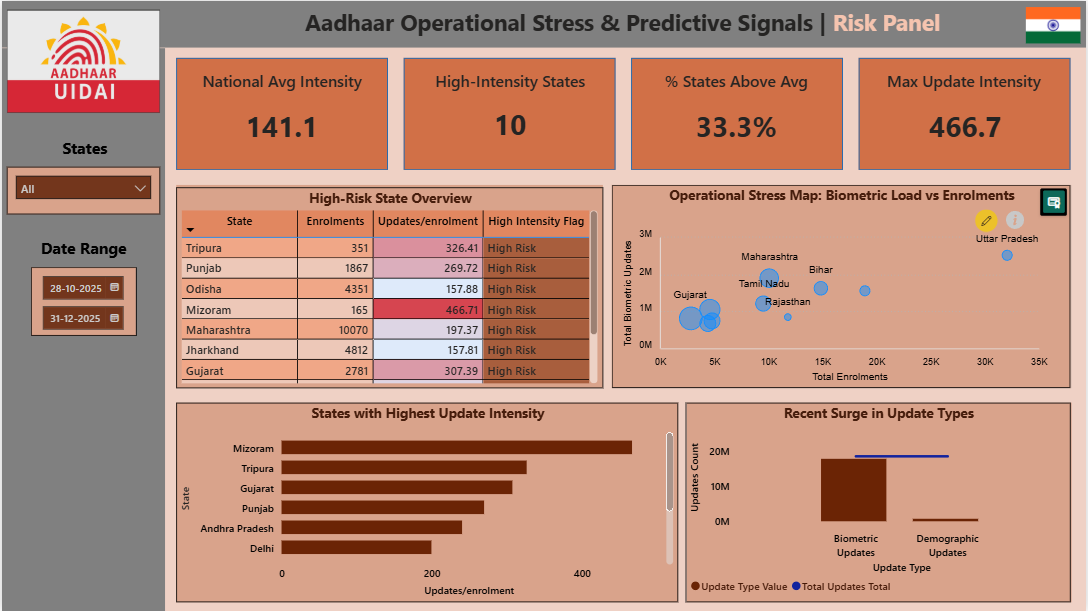

The page's visual inventory and layout, read from the dashboard file:
{"tool":"powerbi","page":{"name":"Risk Panel","canvas":[1280,720],"ordinal":2},"visuals":[{"type":"shape","box":[206.2,217.5,503.8,240],"z":0},{"type":"shape","box":[206.2,67.5,250,132.5],"z":1000},{"type":"shape","box":[0,0,1280,55],"z":2000},{"type":"shape","box":[0,55,192.5,665],"z":3000},{"type":"image","box":[6.2,10,181.2,122.5],"z":4000},{"type":"textbox","box":[352.5,1.2,760,51.2],"z":5000},{"type":"cardVisual","fields":{"Data":["final_state_summary.National Average Update Intensity"]},"box":[247.1,111.4,167.1,68.6],"z":6000},{"type":"shape","box":[474.6,67.5,250,132.5],"z":7000},{"type":"shape","box":[742.9,67.5,250,132.5],"z":8000},{"type":"shape","box":[1011.2,67.5,250,132.5],"z":9000},{"type":"textbox","box":[206.2,77.5,250,66.2],"z":10000},{"type":"textbox","box":[480,77.5,240,56.2],"z":11000},{"type":"cardVisual","fields":{"Data":["final_state_summary.High Intensity States Count"]},"box":[517.5,110,166.2,68.8],"z":12000},{"type":"cardVisual","fields":{"Data":["final_state_summary.Pct States Above Avg"]},"box":[747.1,111.4,240,68.6],"z":13000},{"type":"textbox","box":[747.5,77.5,240,56.2],"z":14000},{"type":"textbox","box":[1016.2,77.5,240,55],"z":15000},{"type":"cardVisual","fields":{"Data":["final_state_summary.Max Update Intensity"]},"box":[1053.8,111.2,166.2,68.8],"z":16000},{"type":"shape","box":[205.7,474.3,592.9,235.7],"z":17000},{"type":"shape","box":[808.6,474.3,454.3,235.7],"z":18000},{"type":"shape","box":[720,217.1,541.4,240],"z":19000},{"type":"shape","box":[6.2,195,181.2,56.2],"z":20000},{"type":"slicer","fields":{"Values":["final_state_summary.state"]},"box":[6.3,195.3,181.1,56.3],"z":21000},{"type":"shape","box":[33.8,313.8,123.8,81.2],"z":22000},{"type":"textbox","box":[7.5,155,181.2,40],"z":23000},{"type":"textbox","box":[6.2,273.8,181.2,40],"z":24000},{"type":"slicer","fields":{"Values":["enrolment_verified.date"]},"box":[33.8,313.8,125,81.2],"z":25000},{"type":"image","box":[1206.7,6.7,67.5,43.3],"z":26000},{"type":"tableEx","title":"High-Risk State Overview","fields":{"Values":["final_state_summary.state","Sum(final_state_summary.enrolments)","Sum(final_state_summary.updates_per_enrolment)","final_state_summary.High Intensity Flag"]},"box":[206.2,220,503.8,237.5],"z":27000},{"type":"lineClusteredColumnComboChart","title":"Recent Surge in Update Types","fields":{"Category":["UpdateType.Update Type"],"Y":["UpdateType.Update Type Value"],"Y2":["UpdateType.Total Updates Total"]},"box":[807.1,474.3,454.3,235.7],"z":28000},{"type":"clusteredBarChart","title":"States with Highest Update Intensity","fields":{"Category":["final_state_summary.state"],"Y":["Sum(final_state_summary.updates_per_enrolment)"]},"box":[205.7,474.3,592.9,235.7],"z":29000},{"type":"performanceBubbleChartFBAAA829CB604E5CAB4F21729F233294","title":"Operational Stress Map: Biometric Load vs Enrolments","fields":{"xmeasure":["enrolment_verified.Total Enrolments"],"ymeasure":["final_state_summary.Total Biometric Updates"],"zmeasure":["Sum(final_state_summary.updates_per_enrolment)"],"category":["final_state_summary.state"]},"box":[720,217.1,541.4,240],"z":30000}]}

Visuals, with their boxes in screenshot pixels (x1, y1, x2, y2), scaled from the page's 1280x720 canvas onto the 1088x611 screenshot:
shape: l=175, t=185, r=604, b=388
shape: l=175, t=57, r=388, b=170
shape: l=0, t=0, r=1087, b=47
shape: l=0, t=47, r=164, b=610
image: l=5, t=8, r=159, b=112
textbox: l=300, t=1, r=946, b=44
cardVisual - final_state_summary.National Average Update Intensity: l=210, t=95, r=352, b=153
shape: l=403, t=57, r=616, b=170
shape: l=631, t=57, r=844, b=170
shape: l=860, t=57, r=1072, b=170
textbox: l=175, t=66, r=388, b=122
textbox: l=408, t=66, r=612, b=113
cardVisual - final_state_summary.High Intensity States Count: l=440, t=93, r=581, b=152
cardVisual - final_state_summary.Pct States Above Avg: l=635, t=95, r=839, b=153
textbox: l=635, t=66, r=839, b=113
textbox: l=864, t=66, r=1068, b=112
cardVisual - final_state_summary.Max Update Intensity: l=896, t=94, r=1037, b=153
shape: l=175, t=402, r=679, b=603
shape: l=687, t=402, r=1073, b=603
shape: l=612, t=184, r=1072, b=388
shape: l=5, t=165, r=159, b=213
slicer - final_state_summary.state: l=5, t=166, r=159, b=214
shape: l=29, t=266, r=134, b=335
textbox: l=6, t=132, r=160, b=165
textbox: l=5, t=232, r=159, b=266
slicer - enrolment_verified.date: l=29, t=266, r=135, b=335
image: l=1026, t=6, r=1083, b=42
"High-Risk State Overview" tableEx: l=175, t=187, r=604, b=388
"Recent Surge in Update Types" lineClusteredColumnComboChart: l=686, t=402, r=1072, b=603
"States with Highest Update Intensity" clusteredBarChart: l=175, t=402, r=679, b=603
"Operational Stress Map: Biometric Load vs Enrolments" performanceBubbleChartFBAAA829CB604E5CAB4F21729F233294: l=612, t=184, r=1072, b=388
